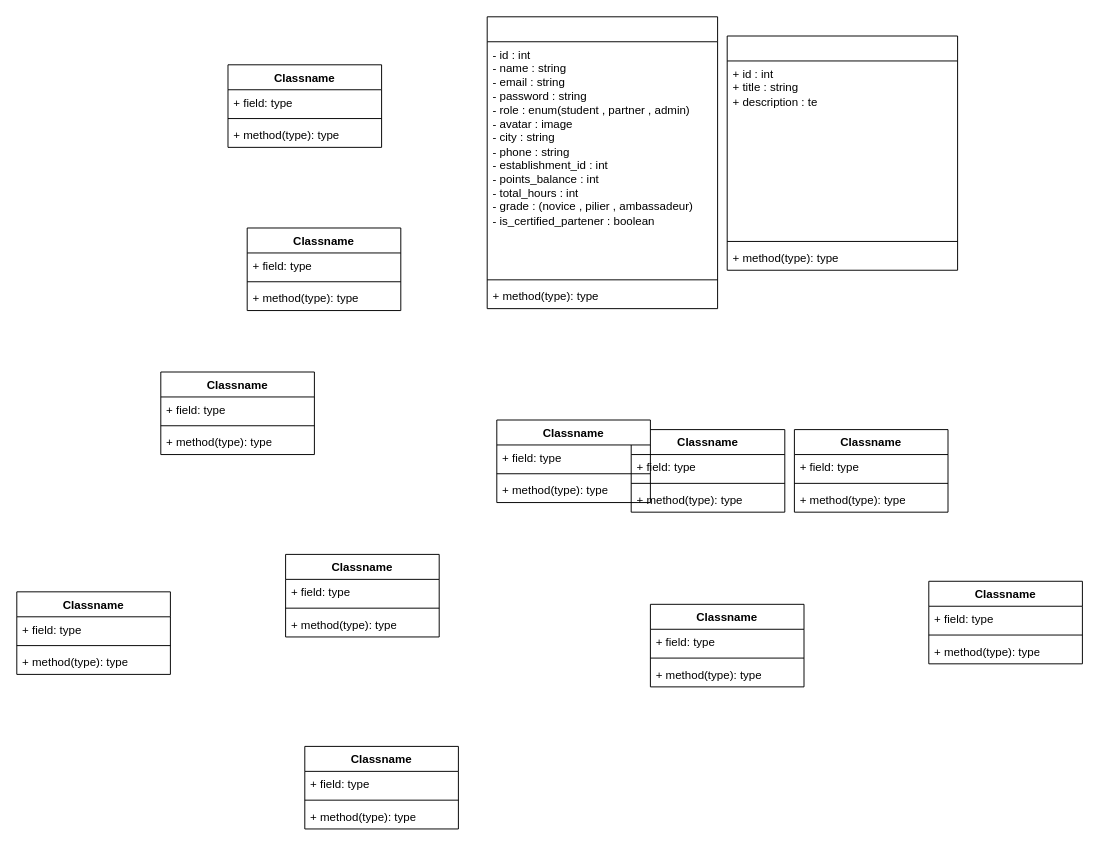
Some shapes in this 1099 by 849 pixel diagram are drawn without their labels. The box of each missing label's shape, as (x1, y1, x2, y2) in pixels:
Event: (726, 35, 958, 270)
User: (486, 16, 718, 309)
